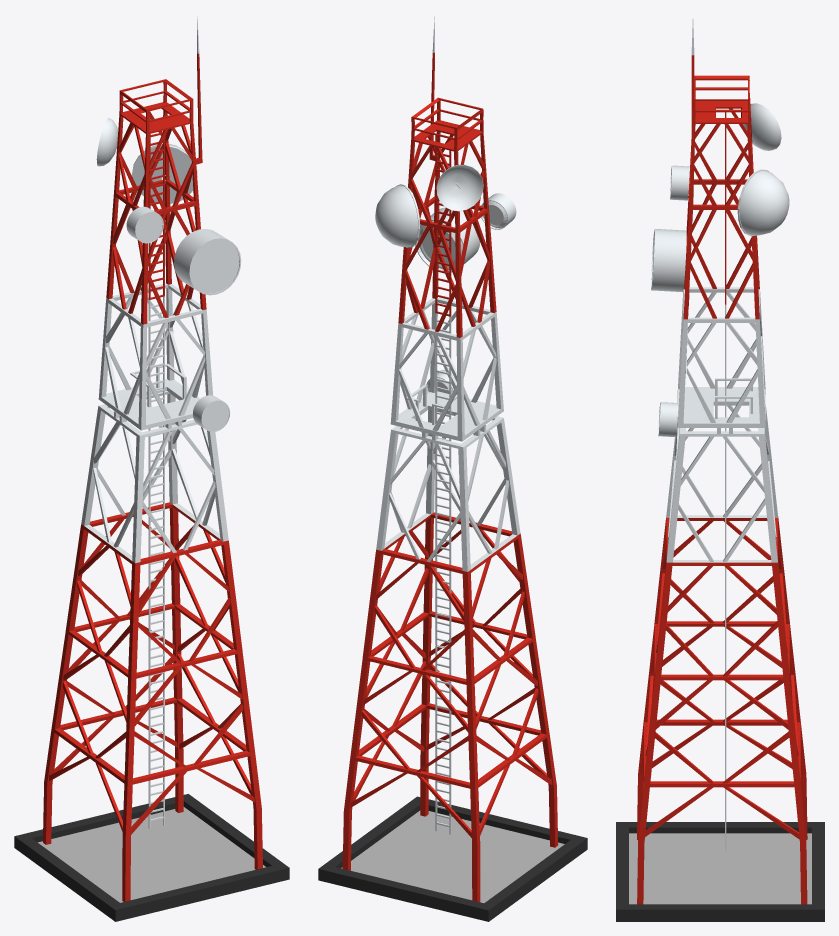
The model's file is SM_Mobile_Tower001.FBX.
3 views of the same model, side by side, from view 1: azimuth 30°, elevation 25°; view 2: azimuth 150°, elevation 25°; view 3: azimuth 270°, elevation 25° (orthographic). The views are drawn at different scales.
Parts seen in each view (by area): view 1: SM_Mobile_Tower001; view 2: SM_Mobile_Tower001; view 3: SM_Mobile_Tower001.
Boxes of the visible parts, x1,y1,x2,y2 form: SM_Mobile_Tower001: (14,16,289,921); SM_Mobile_Tower001: (318,16,587,921); SM_Mobile_Tower001: (616,19,824,921).
Size of what is drawn, in the model's own units: 488 by 491 by 2282.
